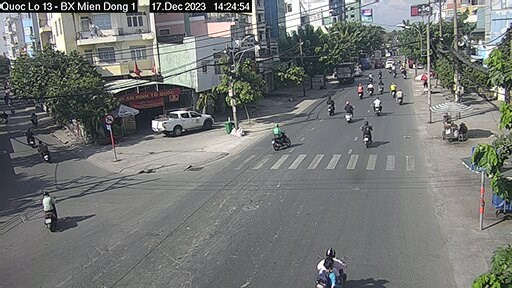car: (152, 107, 213, 136)
motorbike: (267, 122, 295, 156), (40, 189, 61, 232), (357, 120, 375, 150), (321, 91, 336, 116), (343, 100, 354, 121), (371, 97, 383, 114)
truck: (330, 62, 357, 84)
